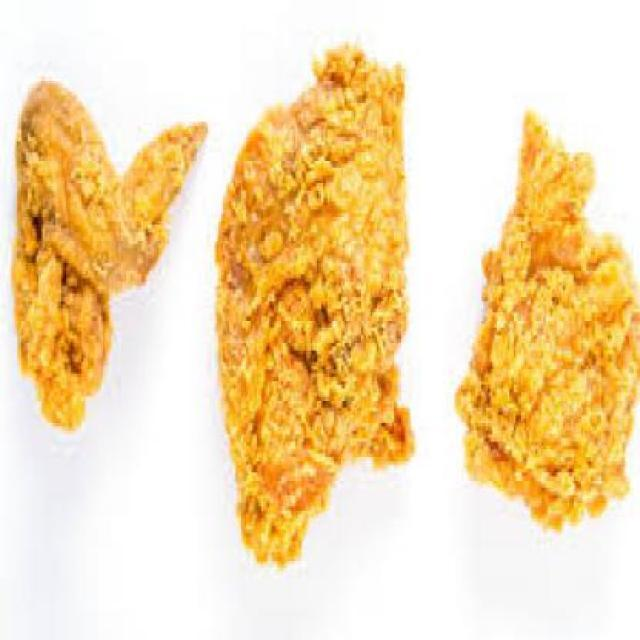Chicken -Fried Chicken-: (213, 43, 415, 570), (454, 114, 640, 535), (10, 80, 205, 436)
